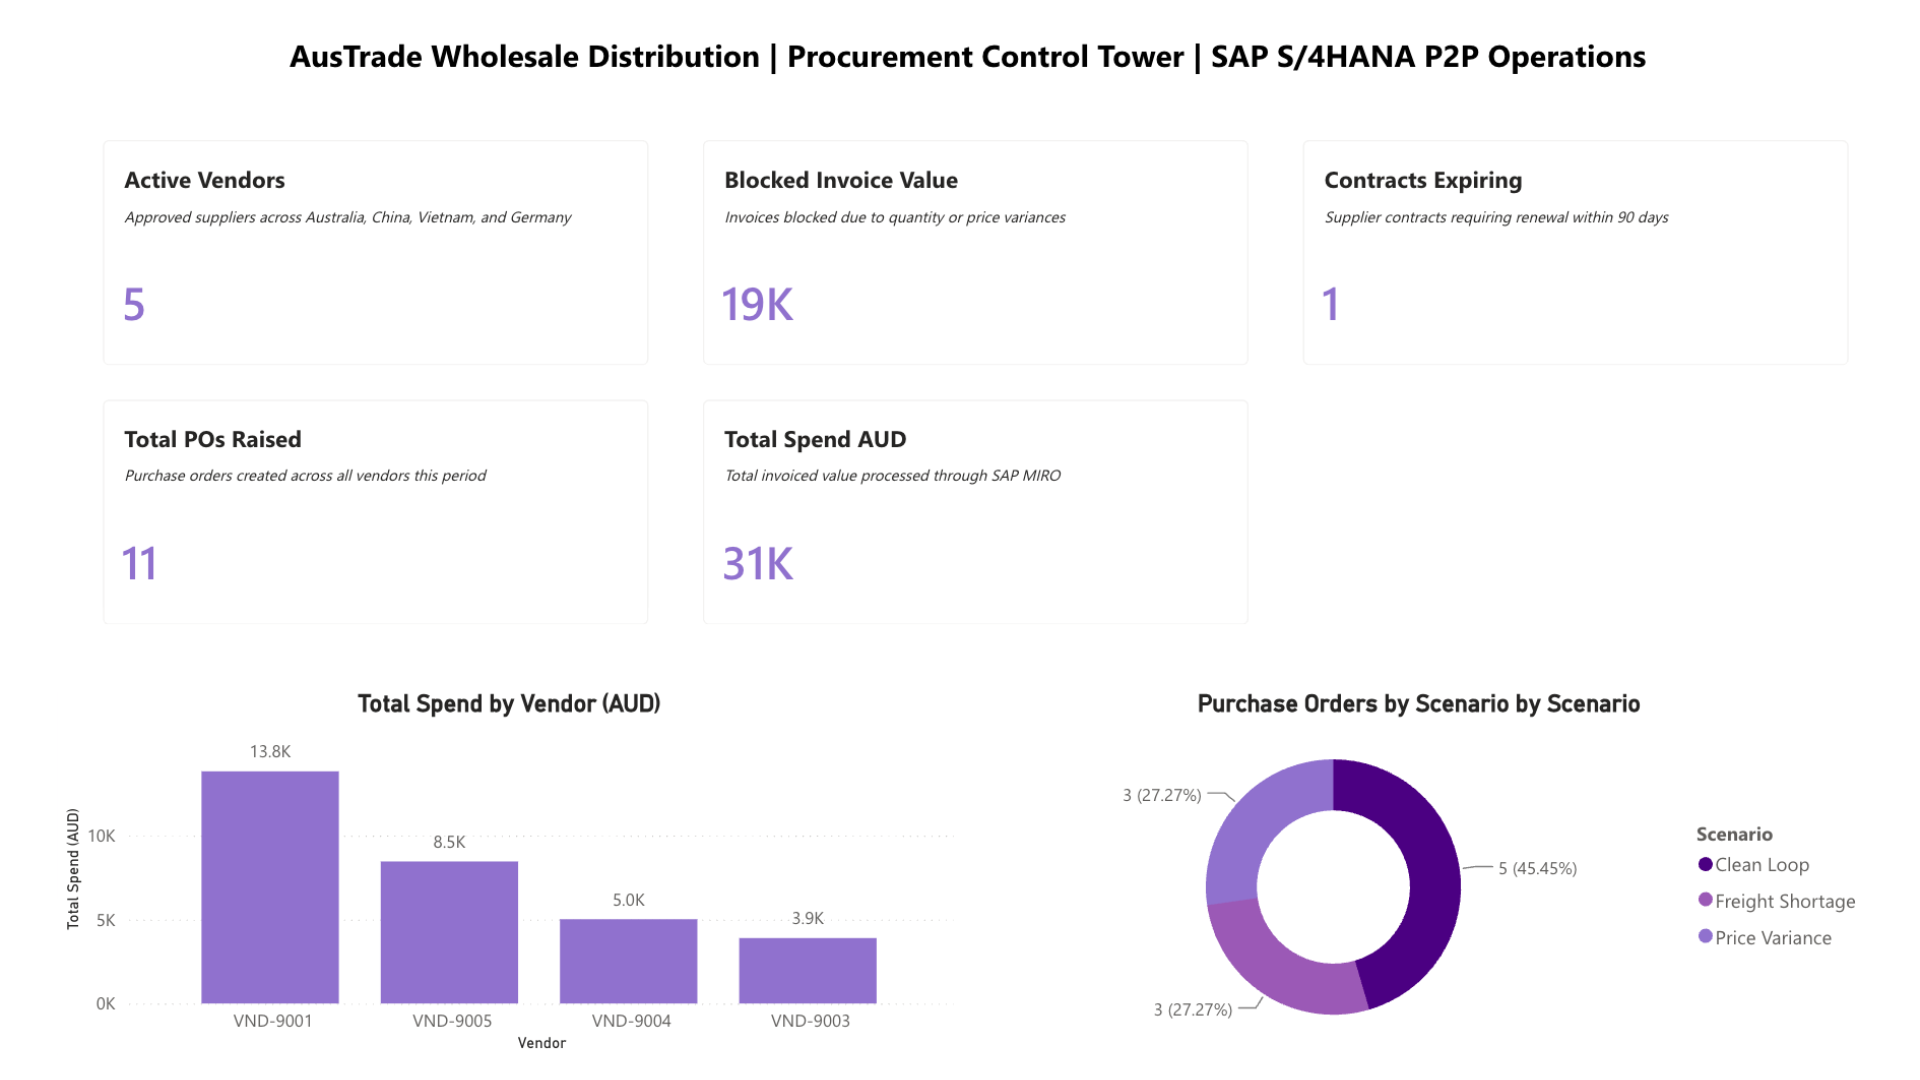

The page's visual inventory and layout, read from the dashboard file:
{"tool":"powerbi","page":{"name":"Executive Summary","canvas":[1280,720],"ordinal":0},"visuals":[{"type":"textbox","box":[10.2,0,1269.8,43.1],"z":0},{"type":"cardVisual","fields":{"Rows":["KPI.KPI_Name"],"Data":["KPIs.KPI Value"]},"box":[10.2,43.1,1269.8,412.3],"z":1000},{"type":"clusteredColumnChart","title":"Total Spend by Vendor (AUD)","fields":{"Category":["5_Transaction_Log.Vendor_ID"],"Y":["Sum(5_Transaction_Log.Invoice_Amount_AUD)"]},"box":[9.7,465.2,630.6,254.5],"z":2000},{"type":"donutChart","fields":{"Category":["5_Transaction_Log.Scenario"],"Y":["Count(5_Transaction_Log.PO_Number)"]},"box":[641,465,639,255],"z":3000}]}

Visuals, with their boxes in screenshot pixels (x1, y1, x2, y2), scaled from the page's 1280x720 canvas onto the 1920x1080 screenshot:
textbox: <bbox>15, 0, 1919, 65</bbox>
cardVisual - KPI.KPI_Name x KPIs.KPI Value: <bbox>15, 65, 1919, 683</bbox>
"Total Spend by Vendor (AUD)" clusteredColumnChart: <bbox>15, 698, 960, 1079</bbox>
donutChart - 5_Transaction_Log.Scenario x Count(5_Transaction_Log.PO_Number): <bbox>962, 698, 1919, 1079</bbox>
